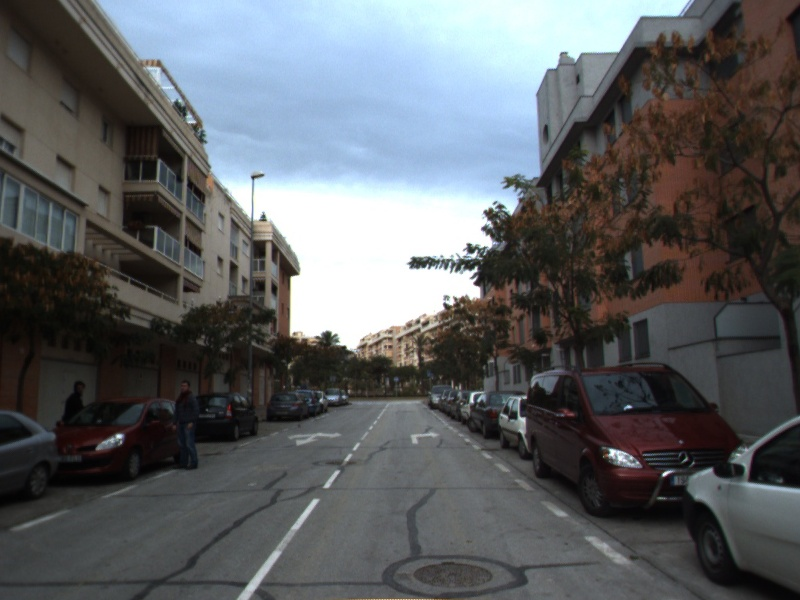RIGHT: (408, 429, 442, 446)
